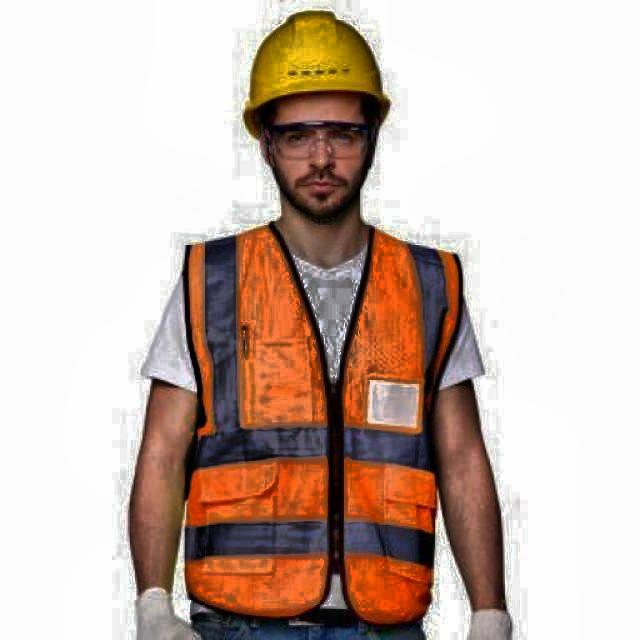safety_jacket: (177, 238, 456, 606)
